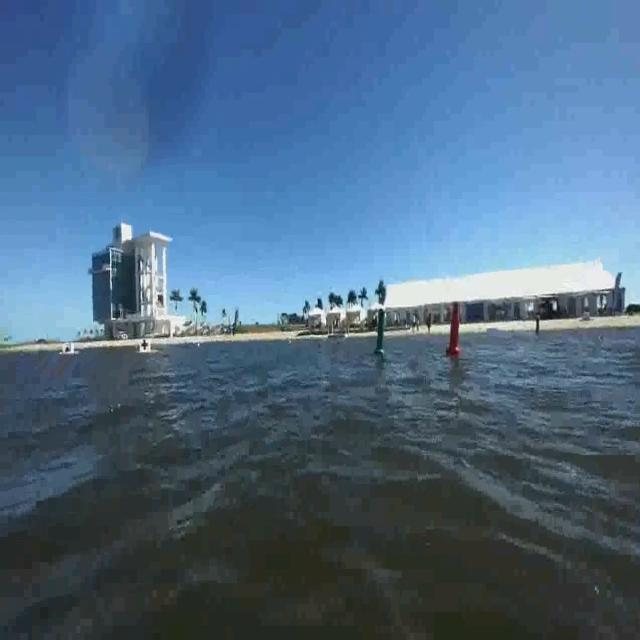green-column-buoy: (372, 307, 387, 357)
red-column-buoy: (448, 303, 464, 357)
